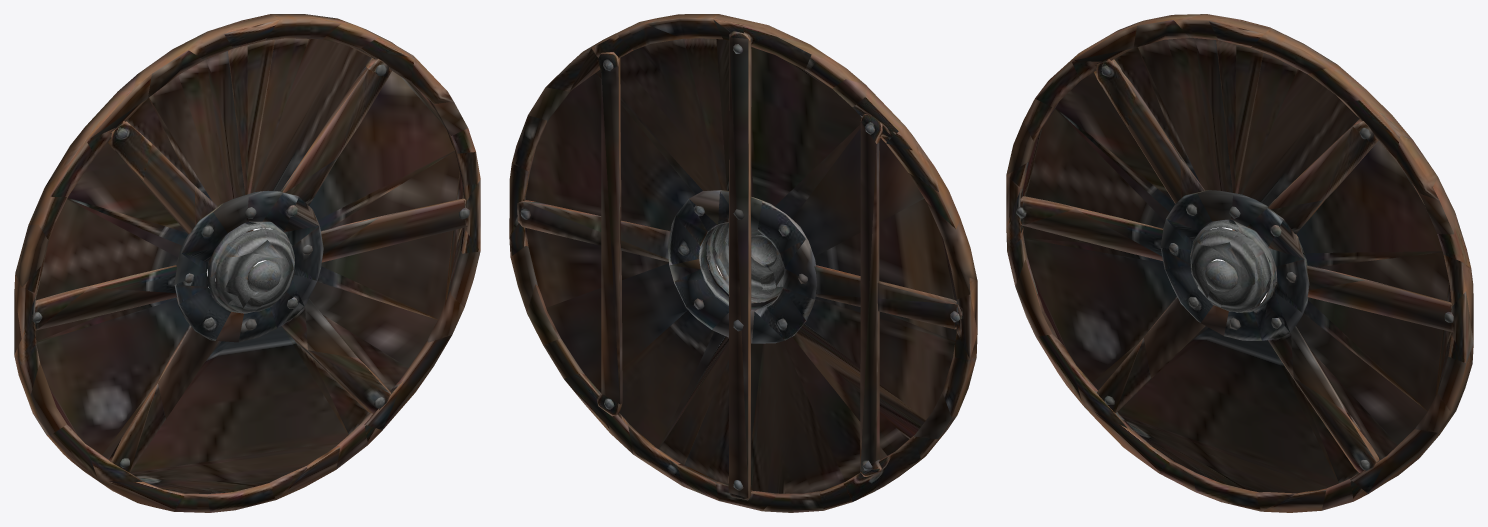
The model's file is gear_germanic_round_shield_0.glb.
3 views of the same model, side by side, from view 1: azimuth 30°, elevation 25°; view 2: azimuth 150°, elevation 25°; view 3: azimuth 330°, elevation 25° (orthographic).
Parts seen in each view (by area): view 1: MeshyEquipment_gear_germanic_round_shield; view 2: MeshyEquipment_gear_germanic_round_shield; view 3: MeshyEquipment_gear_germanic_round_shield.
Part boxes in pixels (left/top/right/bottom): MeshyEquipment_gear_germanic_round_shield: left=14, top=14, right=480, bottom=512; MeshyEquipment_gear_germanic_round_shield: left=509, top=14, right=977, bottom=512; MeshyEquipment_gear_germanic_round_shield: left=1006, top=14, right=1473, bottom=512.
Bounding box in the file's own units: 0.66 × 0.6599 × 0.0811.
Materials: 1 (1 with a texture image).
